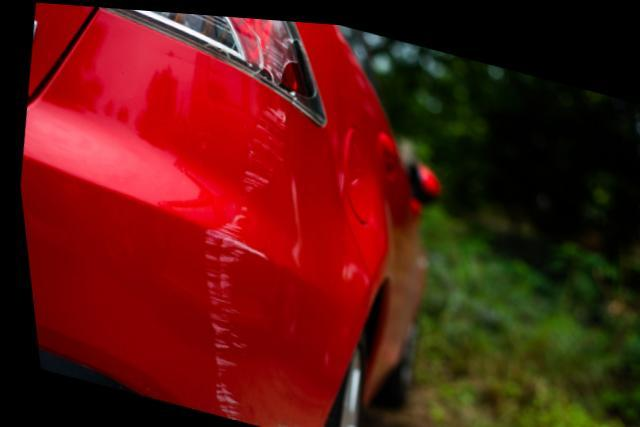lamp broken: (101, 6, 322, 119)
scratch: (192, 99, 287, 421)
